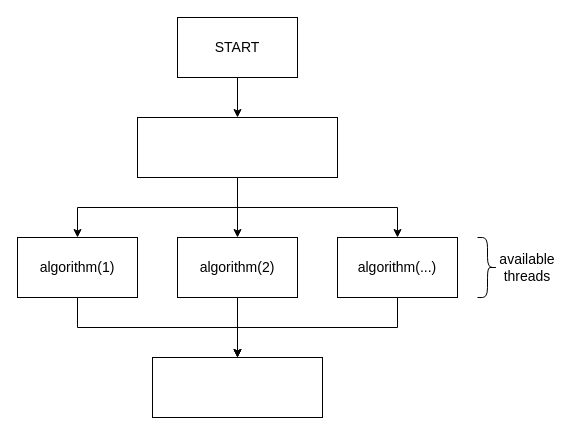
Some shapes in this 575 by 435 pixel diagram are drawn without their labels. The box of each missing label's shape, as (x1, y1, x2, y2) in pixels:
#pragma omp parallel ... #pragma omp for: (136, 116, 338, 178)
reduction(min: index): (152, 356, 322, 418)
